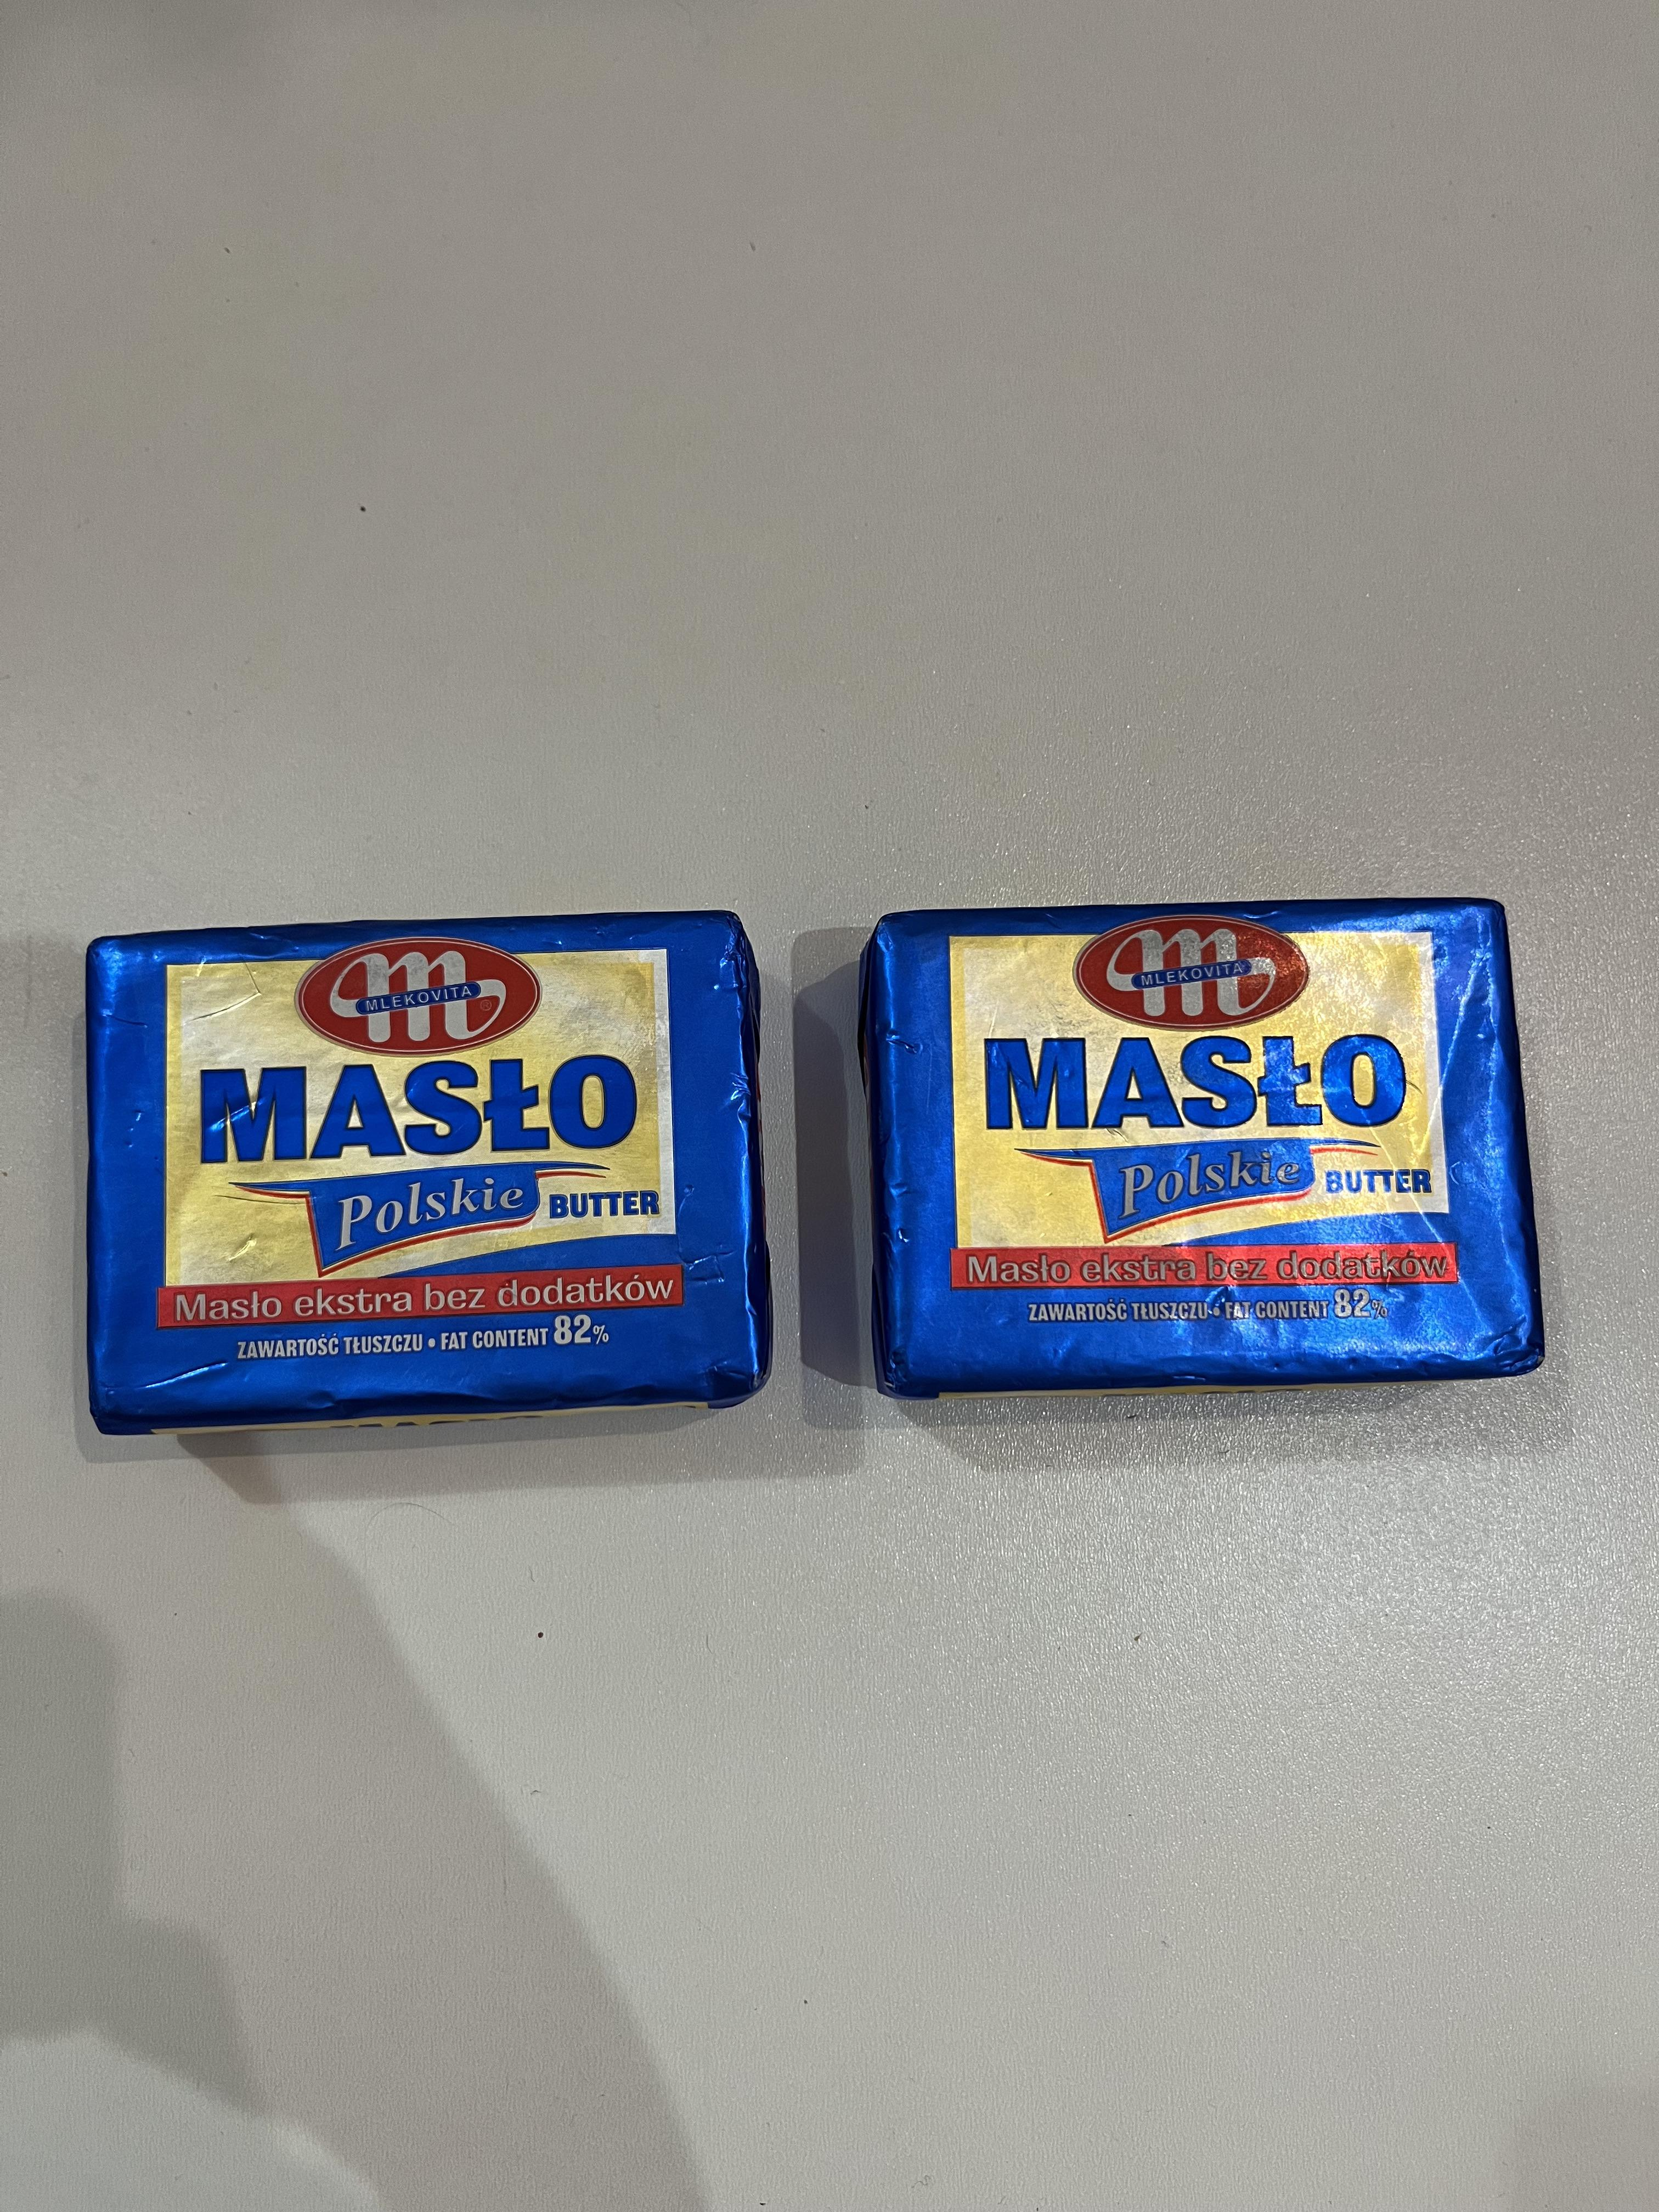Butter: (87, 925, 781, 1409), (861, 906, 1556, 1388)
